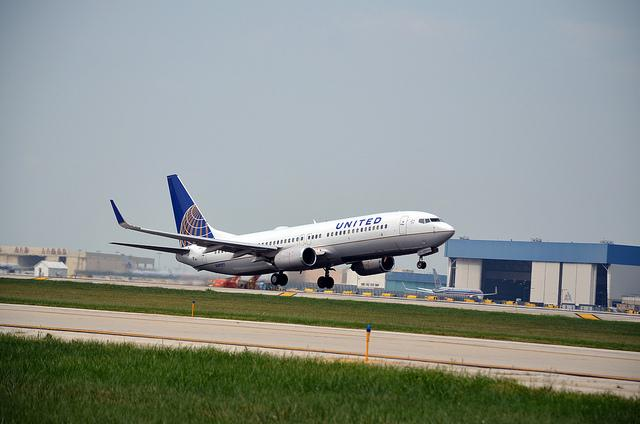airplane: (108, 173, 456, 290)
